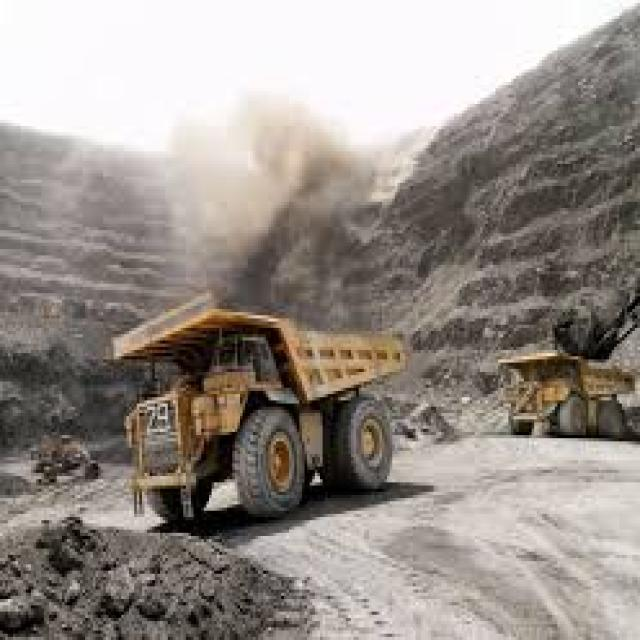dump_truck: (96, 274, 405, 504), (482, 334, 638, 467)
